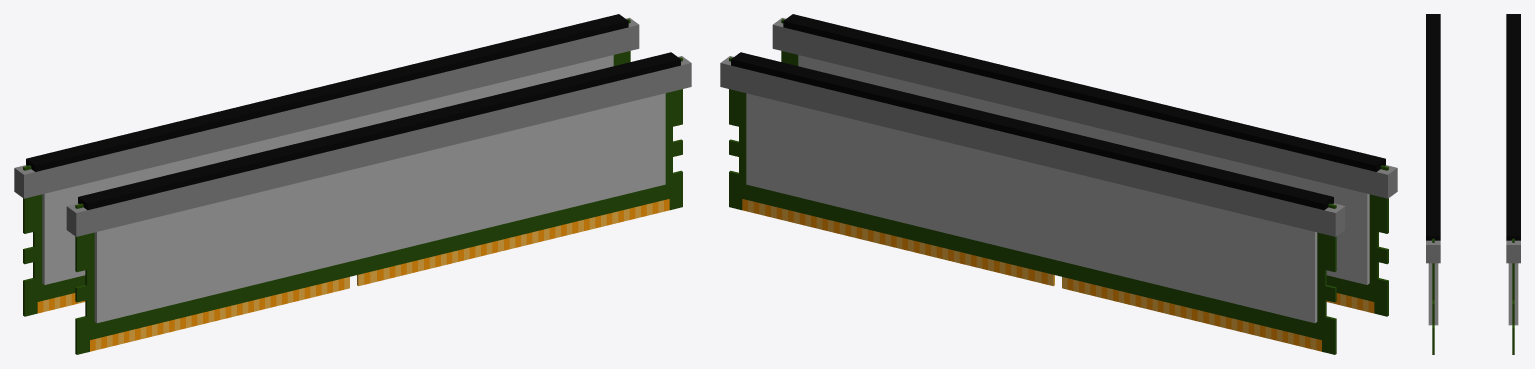
Rendered from ram.glb.
The picture shows the model from 3 angles, left to right: view 1: azimuth 30°, elevation 25°; view 2: azimuth 150°, elevation 25°; view 3: azimuth 270°, elevation 25°; orthographic projection. The views are drawn at different scales.
Parts seen in each view (by area): view 1: Ram; view 2: Ram; view 3: Ram.
Part boxes in pixels (x1,y1,x2,y2): Ram: (14, 14, 691, 354); Ram: (720, 14, 1397, 354); Ram: (1426, 14, 1520, 354).
Bounding box in the file's own units: 4.44 × 1.05 × 0.7732.
